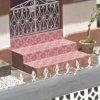stairs: (9, 29, 91, 78)
